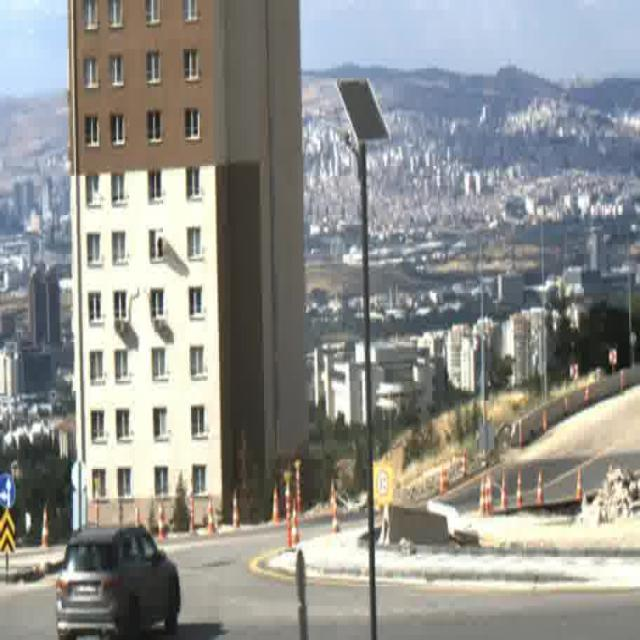Car: (55, 519, 182, 640)
